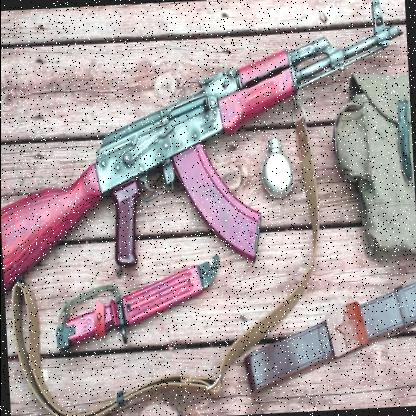rifle: (0, 0, 416, 301)
